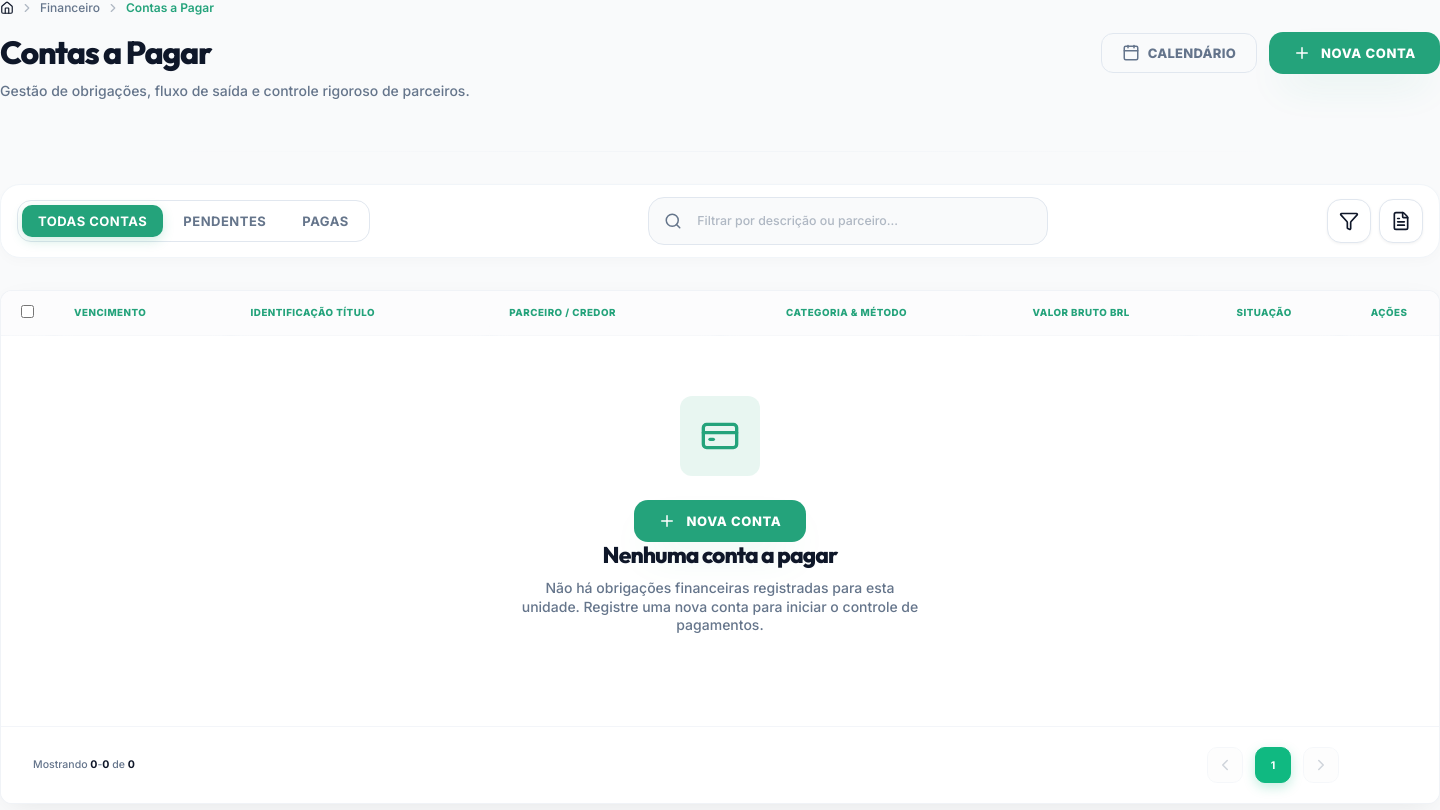
Test: AccountsPayable - Refactored Module Integration › should toggle advanced filters modal
This screenshot has width=1440, height=810.
# Click filter button
Click the button titled "Filtros Avançados": (1349, 221) [1327,199,1371,243]
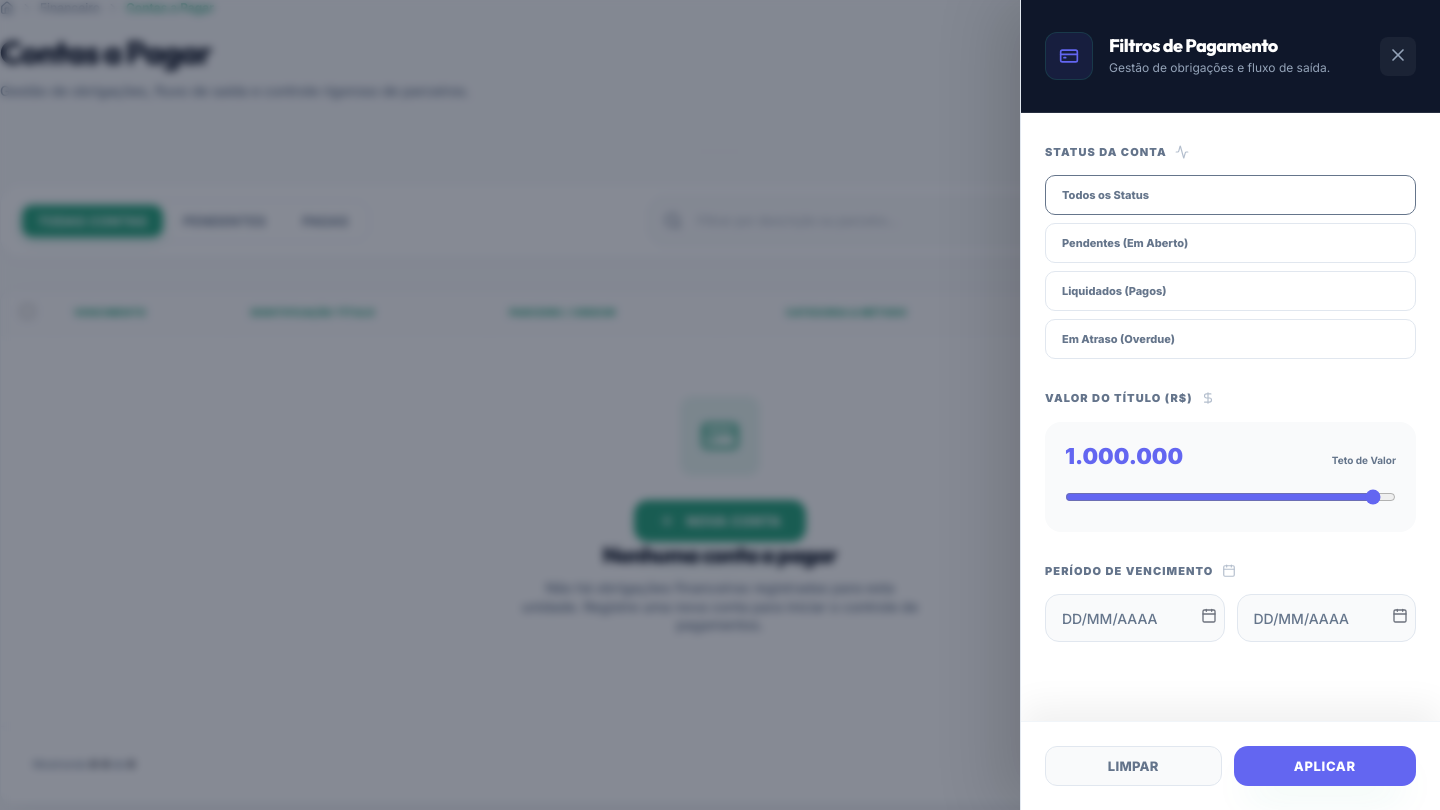
expect the heading "Filtros de Pagamento" is shown: met, box [1109,34,1278,57]
